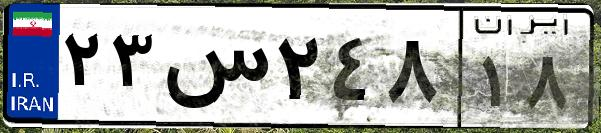1: (475, 38, 525, 113)
2: (270, 28, 330, 110), (57, 26, 110, 100)
3: (110, 28, 158, 98)
4: (330, 28, 385, 110)
8: (385, 28, 445, 110), (525, 38, 570, 115)
س: (158, 20, 270, 120)
